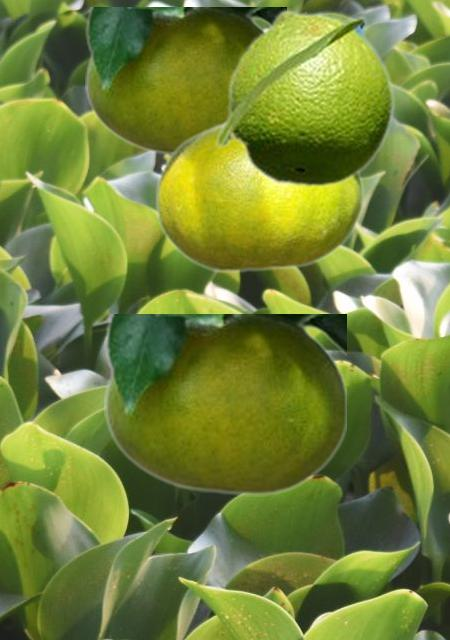dalandan: (104, 314, 345, 495), (213, 8, 395, 188), (154, 119, 363, 273), (85, 7, 285, 157)
